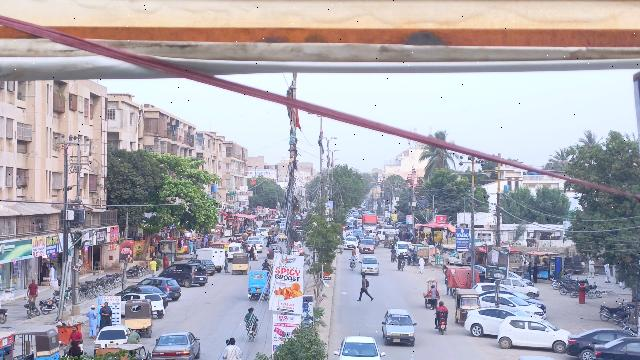Bike: (434, 316, 451, 336), (244, 323, 260, 341)
Car: (495, 314, 572, 355), (562, 323, 627, 360), (463, 306, 531, 339), (380, 308, 417, 348), (151, 331, 202, 360), (332, 333, 386, 360), (591, 333, 640, 360), (160, 263, 210, 288), (141, 274, 183, 301), (359, 255, 380, 277)
Cart: (420, 274, 442, 311)
Person: (356, 273, 375, 304), (83, 304, 99, 339), (98, 299, 113, 327), (25, 275, 40, 303), (432, 298, 450, 317), (246, 306, 257, 324)
Rickshaw: (123, 298, 154, 337), (453, 287, 482, 327), (246, 269, 270, 301), (230, 251, 251, 274)
Truck: (196, 246, 227, 273)
